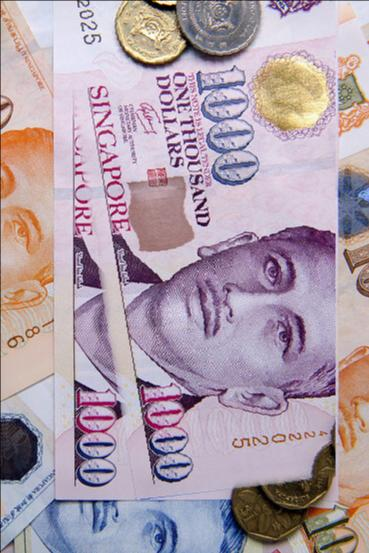1000SingaporeDollar: (54, 0, 334, 499)
